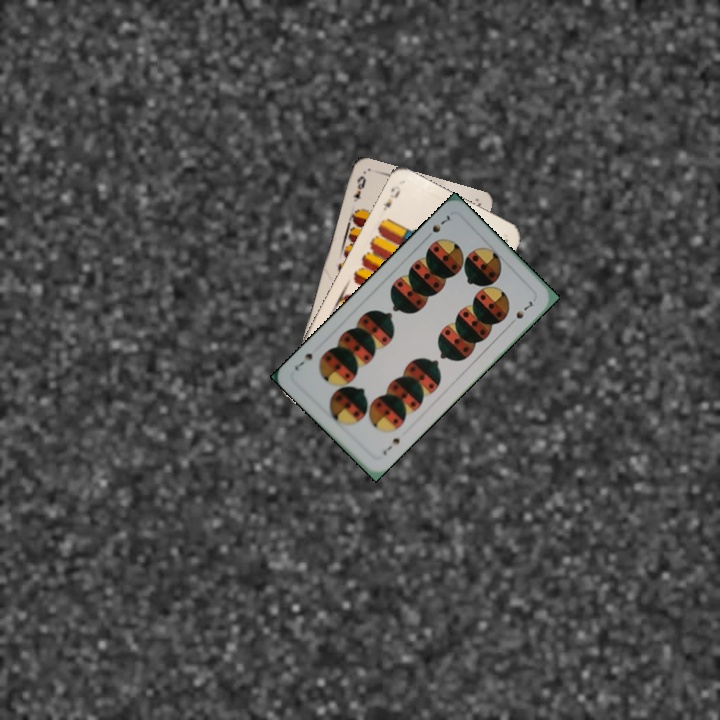E9: (379, 187, 403, 213), (349, 172, 368, 204)
S7: (421, 211, 453, 242), (378, 433, 402, 458)
